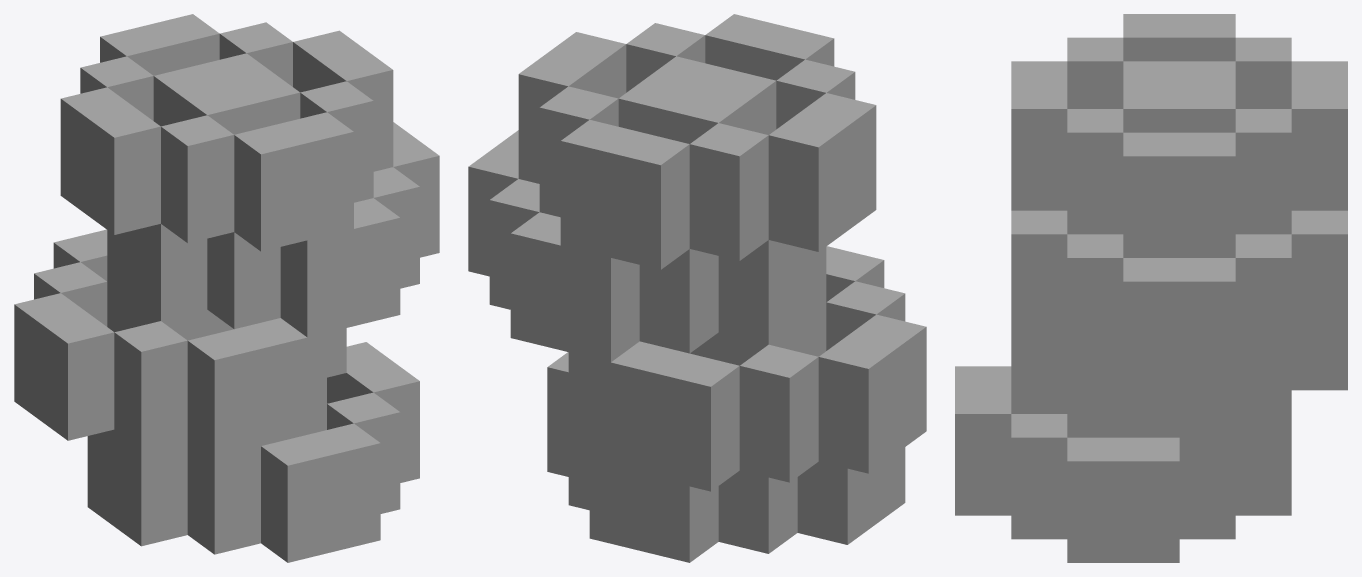
The model's file is Coins_2_Silver.glb.
3 views of the same model, side by side, from view 1: azimuth 30°, elevation 25°; view 2: azimuth 150°, elevation 25°; view 3: azimuth 270°, elevation 25° (orthographic). The views are drawn at different scales.
Parts seen in each view (by area): view 1: Coins_2_Silver; view 2: Coins_2_Silver; view 3: Coins_2_Silver.
Boxes of the visible parts, x1,y1,x2,y2 form: Coins_2_Silver: (14,14,439,562); Coins_2_Silver: (468,14,926,562); Coins_2_Silver: (955,14,1347,562).
Size of the model in its own units: 0.8 by 0.8 by 0.7.
Materials: 1 (1 with a texture image).
